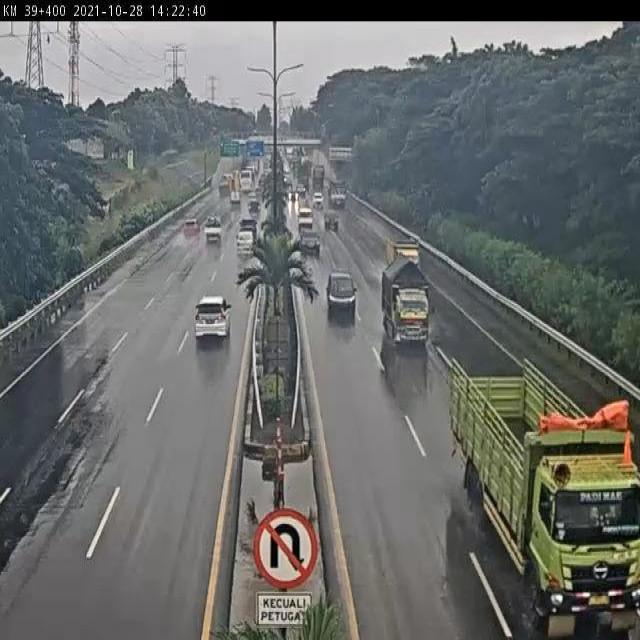truck-l-: (448, 354, 640, 640)
truck-s-: (381, 253, 436, 348), (385, 234, 421, 270)
